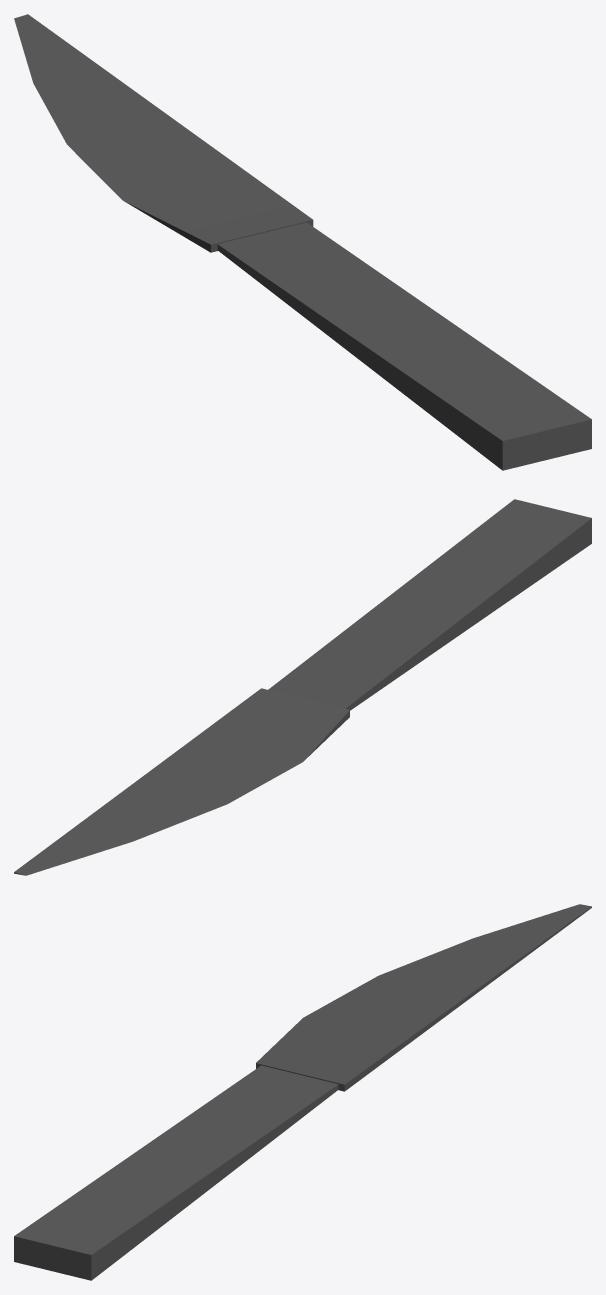
The model's file is Itr_Obj_Knife_04.FBX.
3 renders of one model, top to bottom at view 1: azimuth 30°, elevation 25°; view 2: azimuth 150°, elevation 25°; view 3: azimuth 330°, elevation 25°, orthographic. The views are drawn at different scales.
Parts seen in each view (by area): view 1: Itr_Obj_Knife_04; view 2: Itr_Obj_Knife_04; view 3: Itr_Obj_Knife_04.
Boxes of the visible parts, bbox=[...] form: Itr_Obj_Knife_04: bbox=[14, 14, 591, 470]; Itr_Obj_Knife_04: bbox=[14, 499, 591, 875]; Itr_Obj_Knife_04: bbox=[14, 904, 591, 1280].
Bounding box in the file's own units: 0.5827 × 0.1387 × 4.84.
